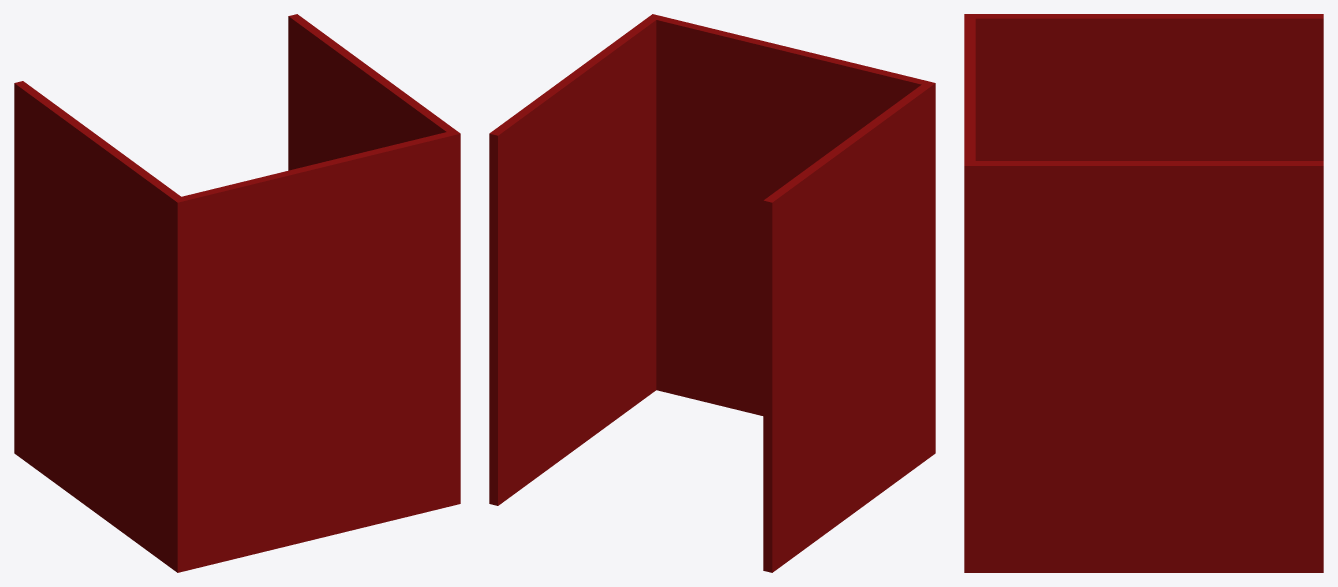
File: 14_SouthEastWest.dae
The picture shows the model from 3 angles, left to right: view 1: azimuth 30°, elevation 25°; view 2: azimuth 150°, elevation 25°; view 3: azimuth 270°, elevation 25°; orthographic projection. The views are drawn at different scales.
Visible parts, largest first — view 1: SouthEastWest; view 2: SouthEastWest; view 3: SouthEastWest.
Boxes of the visible parts, x1,y1,x2,y2 form: SouthEastWest: (14,14,460,572); SouthEastWest: (489,14,935,572); SouthEastWest: (964,14,1323,572).
Bounding box in the file's own units: 8 × 8 × 10.
